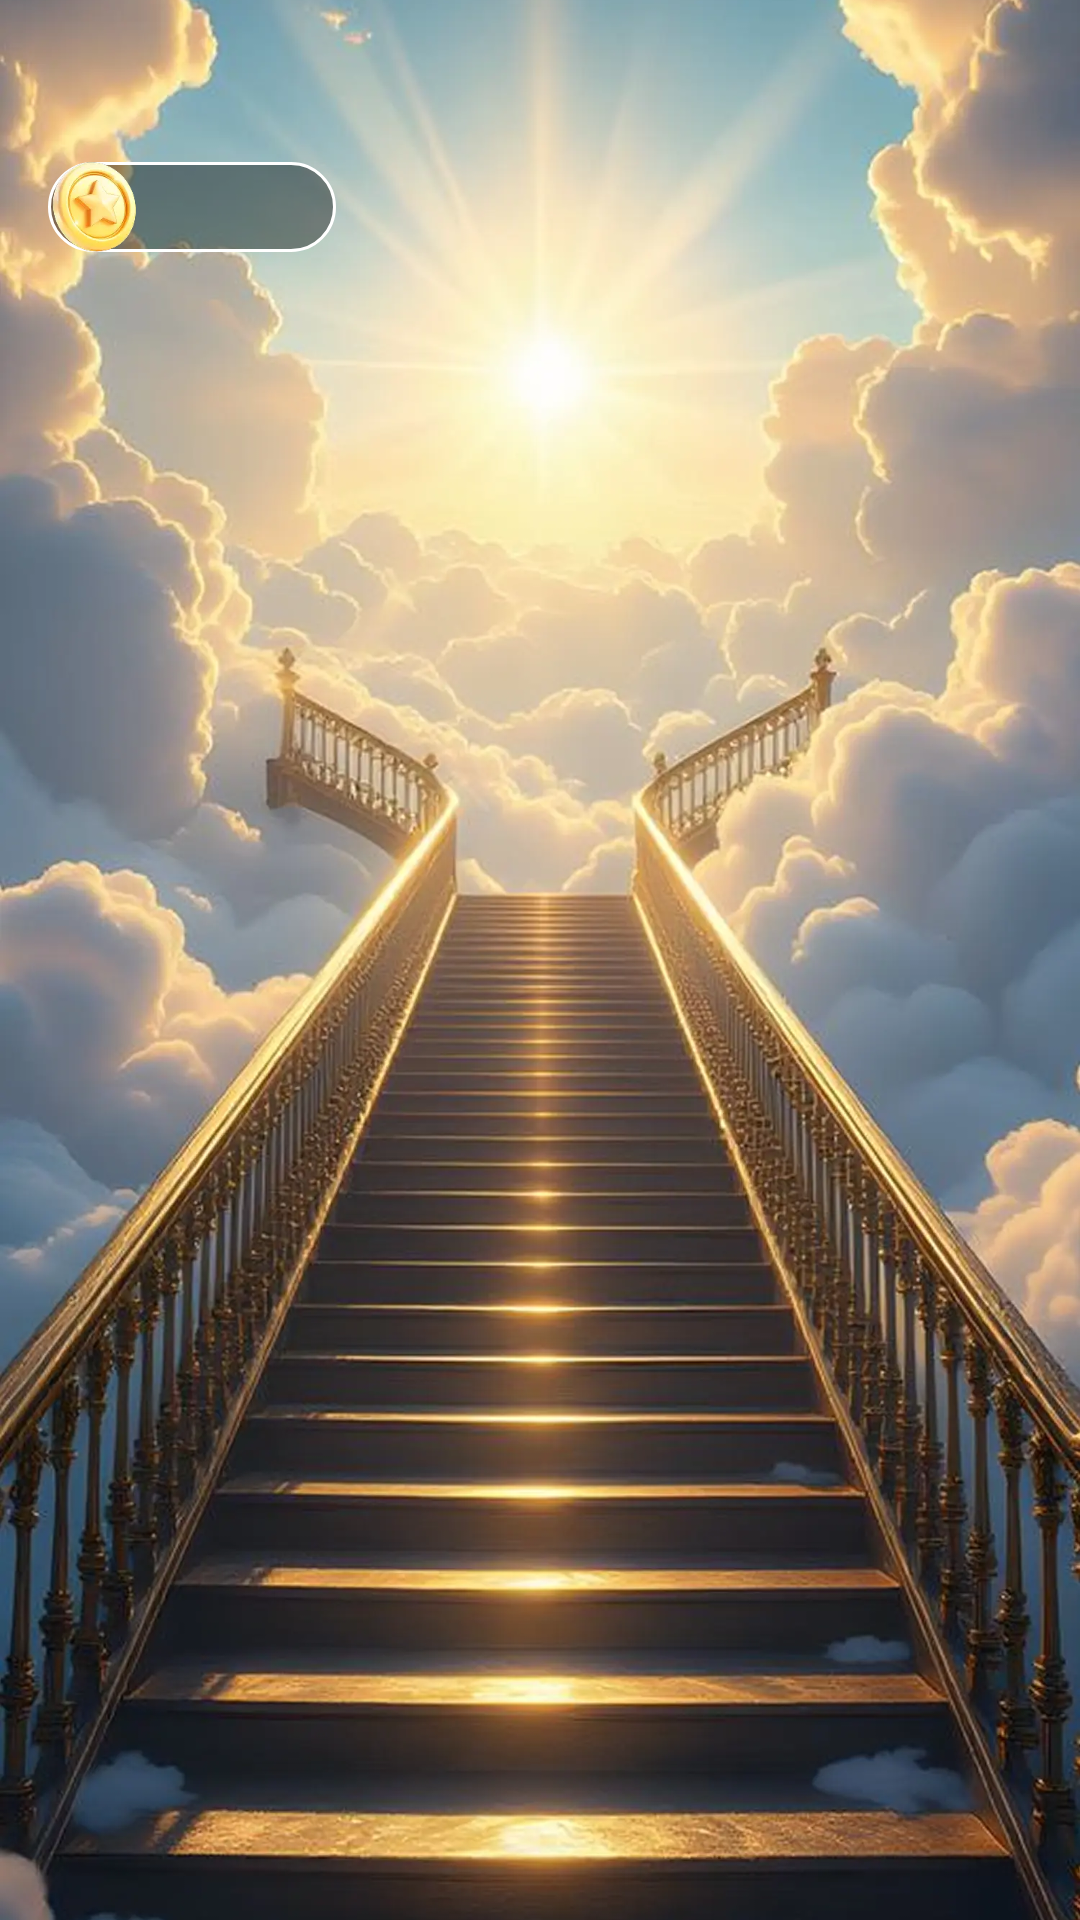

Named icons in this screenshot (1080px×1920px) and their centers, (x,y):
kjv coin: (93,207)
